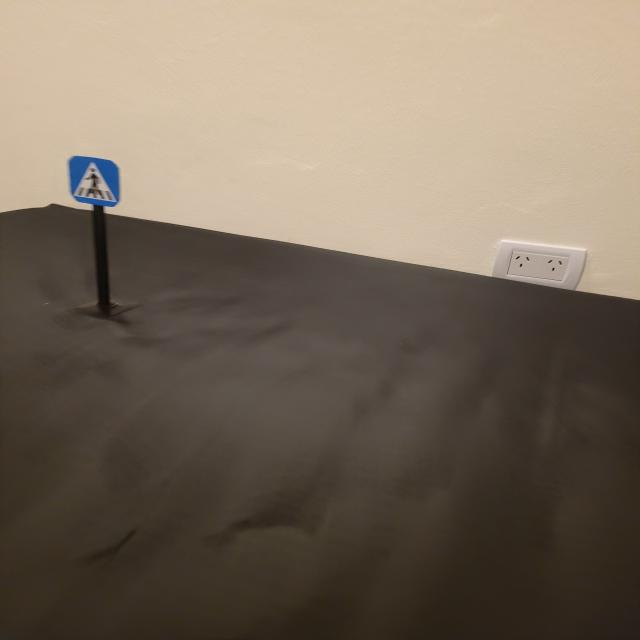crosswalk: (68, 156, 122, 208)
